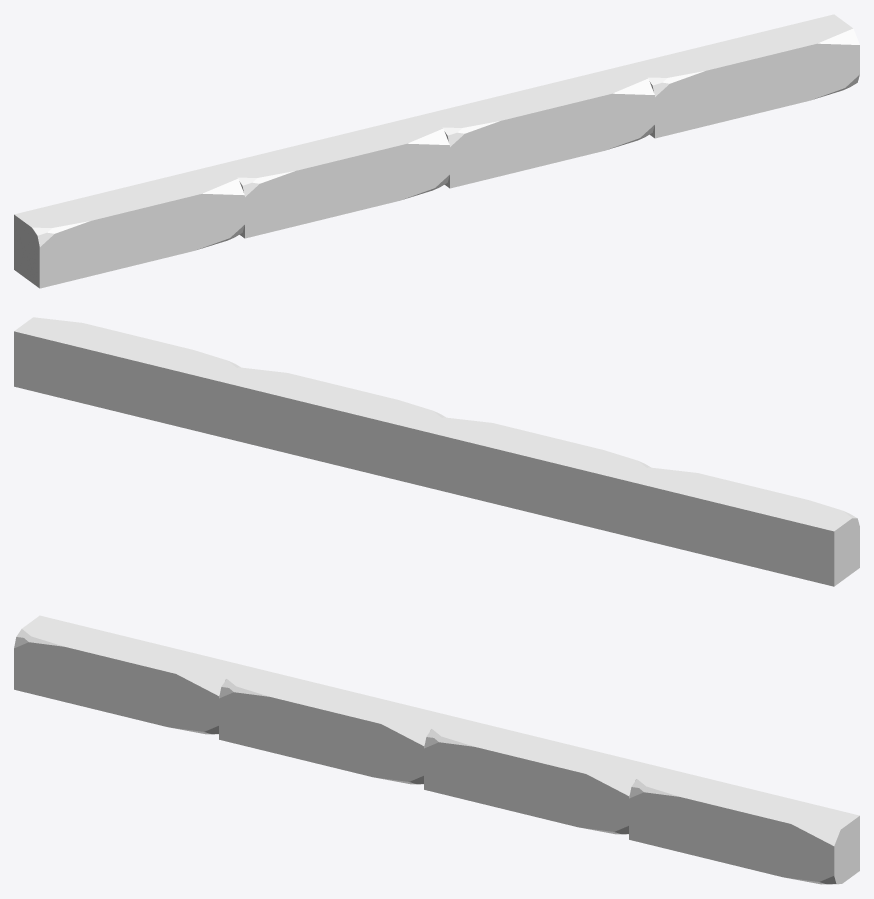
The model's file is StoneWall.fbx.
3 renders of one model, top to bottom at view 1: azimuth 30°, elevation 25°; view 2: azimuth 150°, elevation 25°; view 3: azimuth 330°, elevation 25°, orthographic.
Parts seen in each view (by area): view 1: RockL; view 2: RockL; view 3: RockL.
Part boxes in pixels (<box>): RockL: <box>14,14,859,288</box>; RockL: <box>14,317,859,586</box>; RockL: <box>14,615,859,884</box>.
Bounding box in the file's own units: 2999 × 193 × 164.
